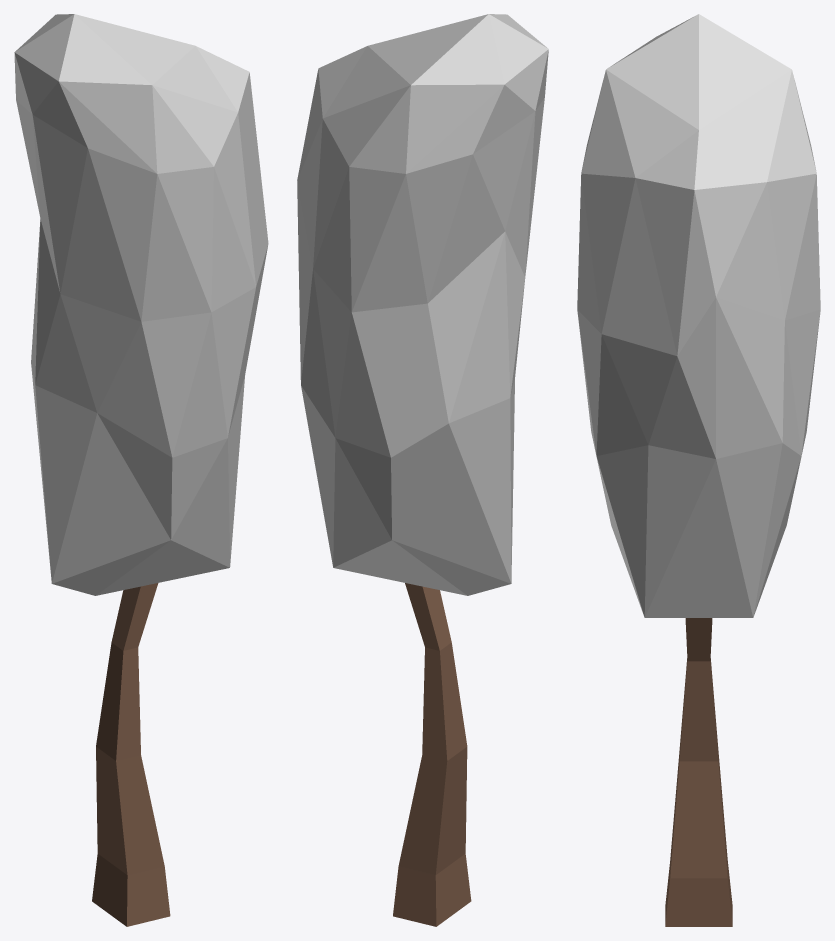
Rendered from Tree_38_White.fbx.
The picture shows the model from 3 angles, left to right: view 1: azimuth 30°, elevation 25°; view 2: azimuth 150°, elevation 25°; view 3: azimuth 270°, elevation 25°; orthographic projection. The views are drawn at different scales.
Parts seen in each view (by area): view 1: Tree_38_White_Part_1, Tree_38_White_Part_2; view 2: Tree_38_White_Part_1, Tree_38_White_Part_2; view 3: Tree_38_White_Part_1, Tree_38_White_Part_2.
Part boxes in pixels (box(x1,y1,x2,y2)): Tree_38_White_Part_1: box(14, 14, 268, 595); Tree_38_White_Part_2: box(92, 583, 170, 926); Tree_38_White_Part_1: box(297, 14, 548, 595); Tree_38_White_Part_2: box(393, 583, 471, 926); Tree_38_White_Part_1: box(577, 14, 820, 617); Tree_38_White_Part_2: box(665, 618, 732, 926).
Size of the model in its own units: 209 by 800 by 201.
